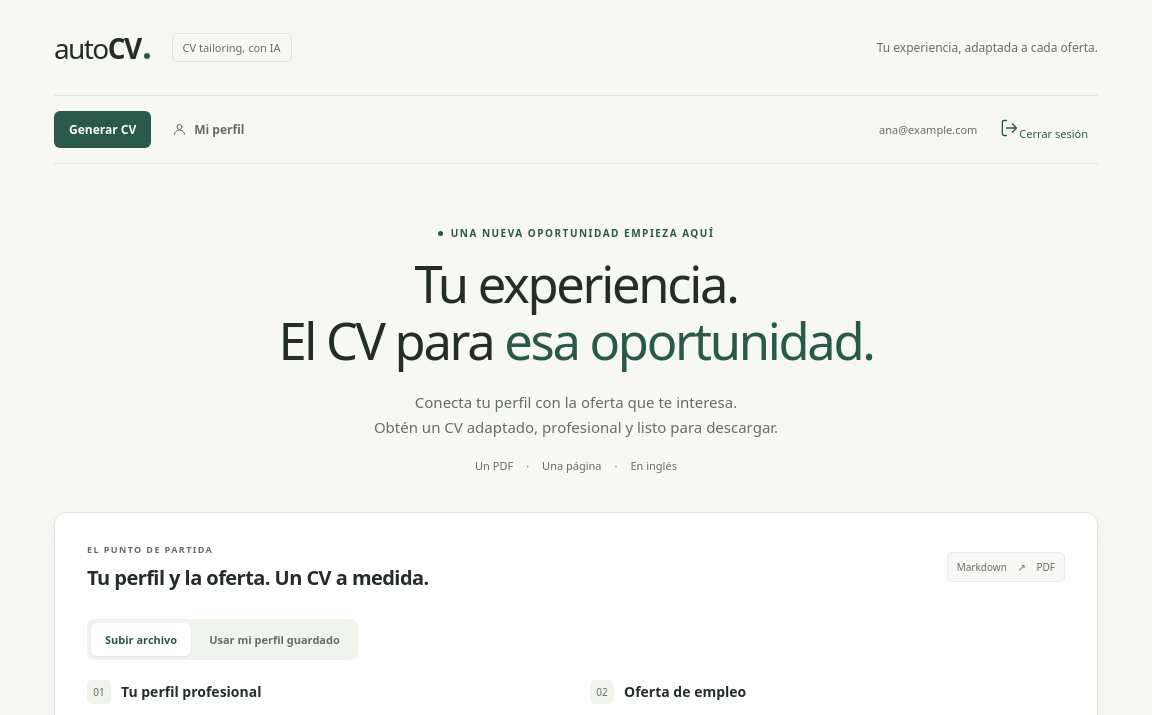
Scenario: App › returns to the login screen after logging out
This screenshot has width=1152, height=715.
Expected: the text "ana@example.com" is shown, 879,122 -> 977,137
Click the button "Cerrar sesión" at (1044,130), box 989,110 -> 1098,149
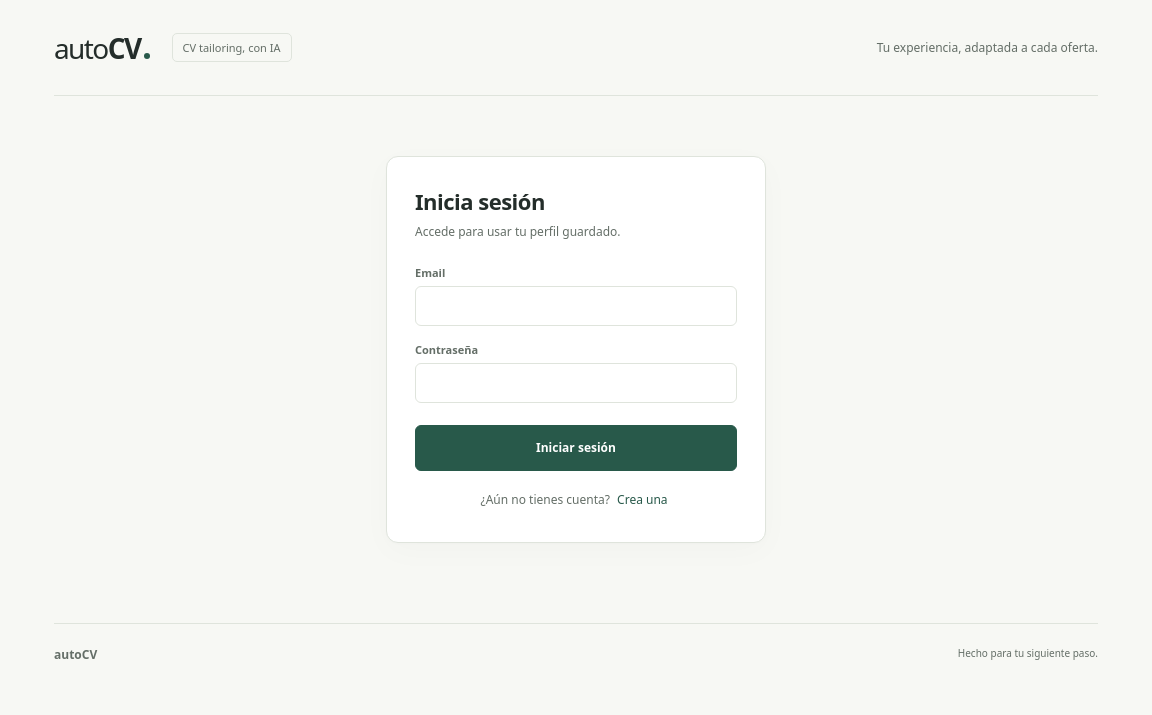
Result: the heading "Inicia sesión" is shown at 415,186 -> 545,216
